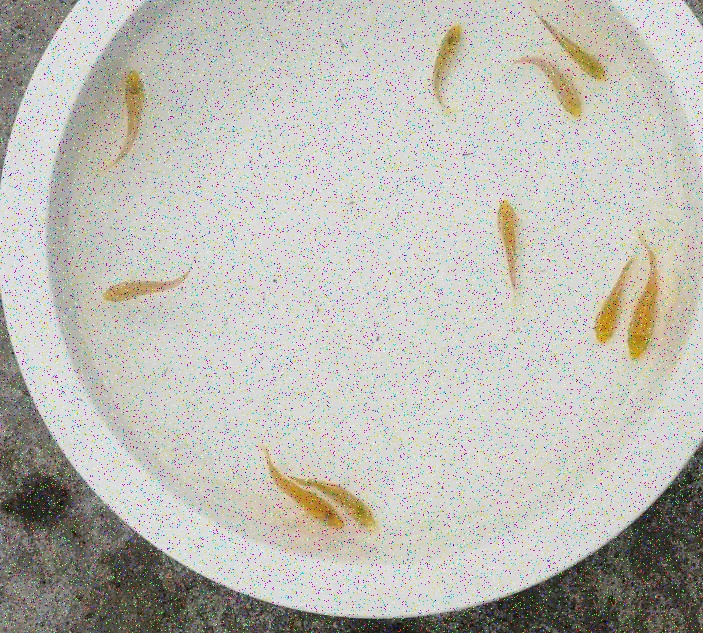fry: (620, 234, 672, 368), (543, 16, 627, 90), (103, 66, 158, 173), (472, 187, 533, 281), (414, 18, 474, 111), (262, 473, 345, 539), (520, 50, 589, 127), (330, 479, 403, 544), (580, 254, 624, 356), (96, 268, 190, 307)
